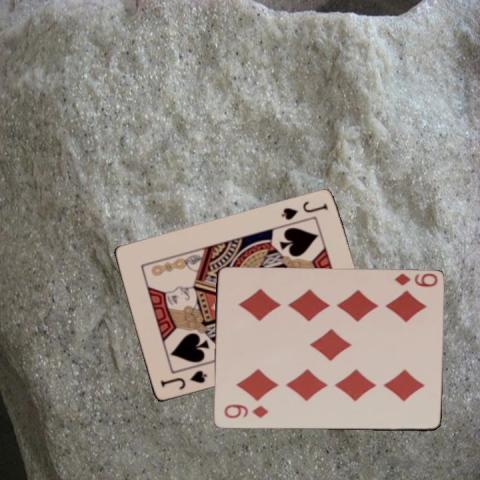9d: (221, 402, 269, 420), (391, 271, 438, 289)
Js: (157, 368, 209, 392), (278, 199, 329, 222)
